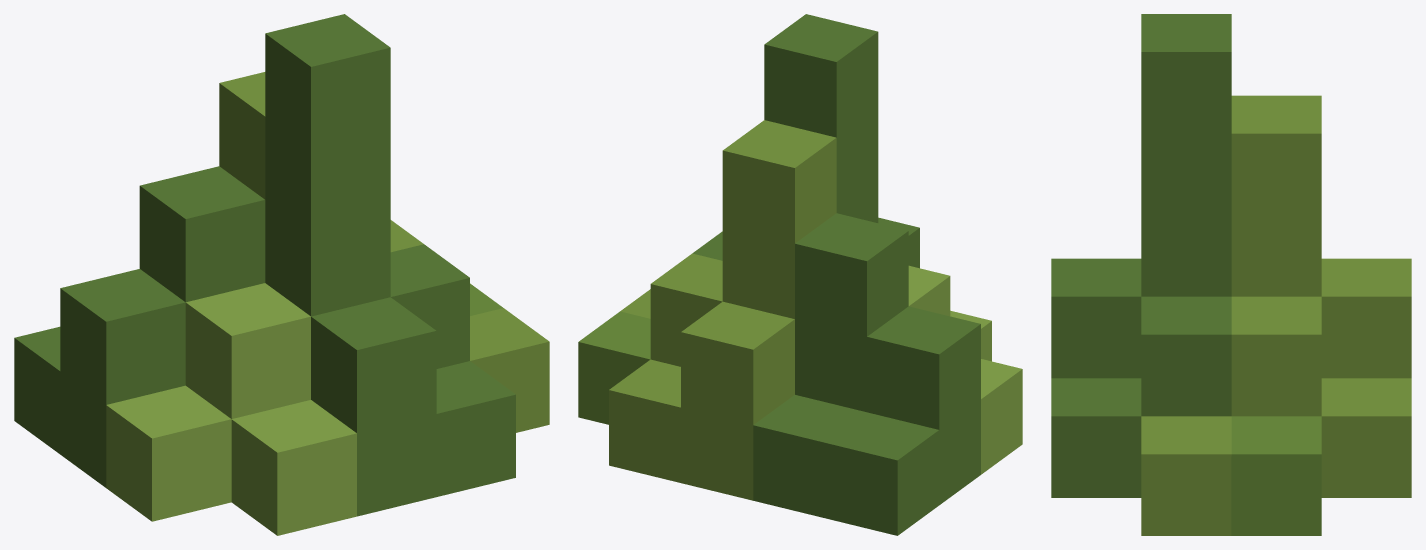
The model's file is SM_VMF_GroundStudy_GrassClump_Medium.fbx.
3 renders of one model, left to right at view 1: azimuth 30°, elevation 25°; view 2: azimuth 150°, elevation 25°; view 3: azimuth 270°, elevation 25°, orthographic. The views are drawn at different scales.
Visible parts, largest first — view 1: SM_VMF_GroundStudy_GrassClump_Medium_Surface; view 2: SM_VMF_GroundStudy_GrassClump_Medium_Surface; view 3: SM_VMF_GroundStudy_GrassClump_Medium_Surface.
Boxes of the visible parts, x1,y1,x2,y2 form: SM_VMF_GroundStudy_GrassClump_Medium_Surface: [14, 14, 549, 535]; SM_VMF_GroundStudy_GrassClump_Medium_Surface: [578, 14, 1022, 535]; SM_VMF_GroundStudy_GrassClump_Medium_Surface: [1051, 14, 1411, 535].
Size of the model in its own units: 20 by 20 by 16.
Materials: 1 (1 with a texture image).
